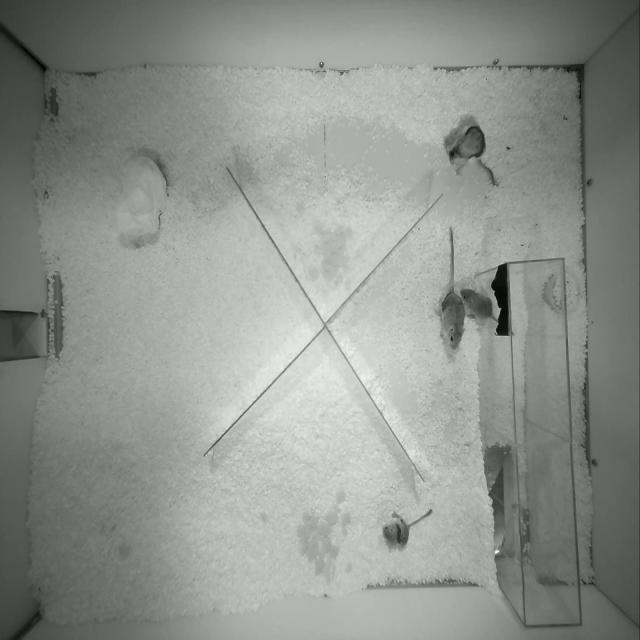adult_back: (437, 227, 466, 350)
adult_front: (449, 127, 496, 185)
pup_fluffy: (460, 289, 498, 323)
pup_h_stripe: (382, 509, 432, 548)
